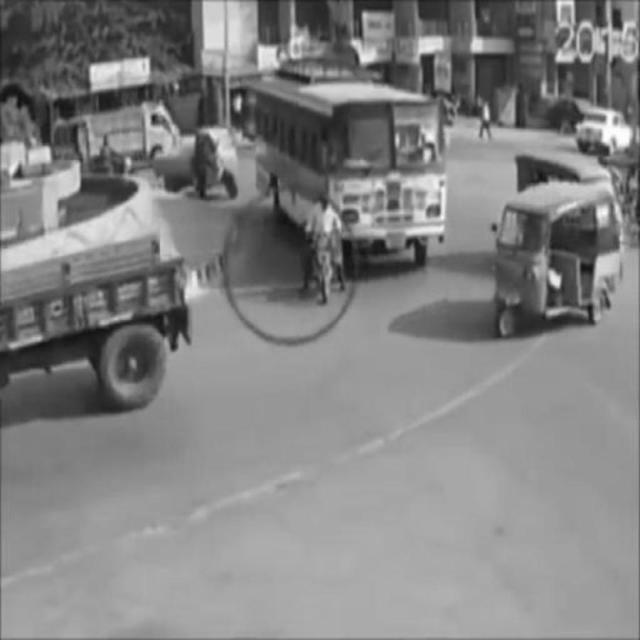vehicle: (257, 80, 447, 270), (2, 235, 192, 407), (489, 186, 621, 334), (152, 132, 242, 203), (299, 194, 347, 308)
